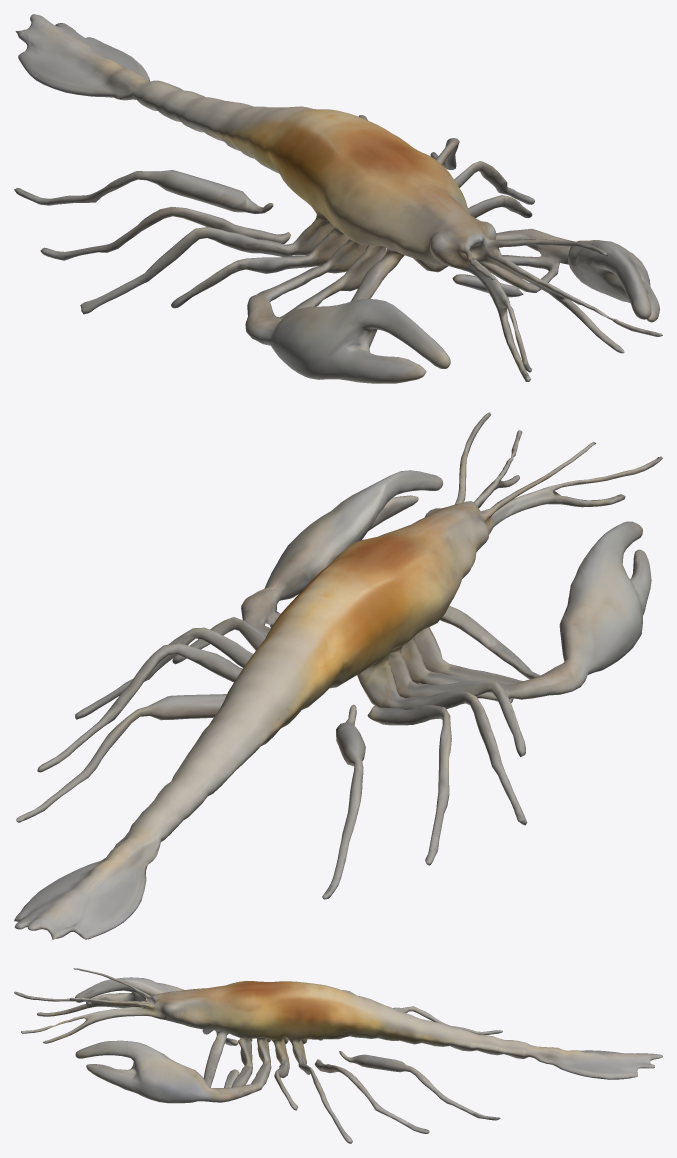
File: udang_putih_gua_1019092740_texture.fbx
The picture shows the model from 3 angles, top to bottom: view 1: azimuth 30°, elevation 25°; view 2: azimuth 150°, elevation 25°; view 3: azimuth 270°, elevation 25°; orthographic projection. The views are drawn at different scales.
Parts seen in each view (by area): view 1: Mesh1.0; view 2: Mesh1.0; view 3: Mesh1.0.
Part boxes in pixels (x1,y1,x2,y2): Mesh1.0: (14,14,662,383); Mesh1.0: (14,412,662,939); Mesh1.0: (14,968,662,1143).
Size of the model in its own units: 90.36 by 32.75 by 196.
1 material, 1 textured.
